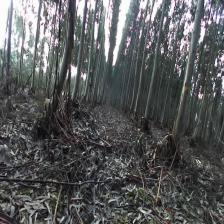trunk: (171, 5, 204, 145), (48, 20, 75, 118), (143, 22, 163, 123), (74, 7, 88, 90)
